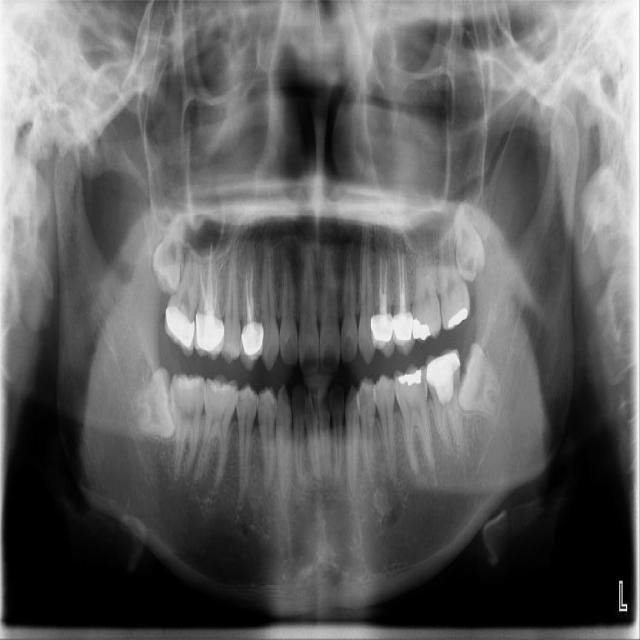3M ESPE Implant: (149, 211, 187, 296)
52: (417, 344, 471, 394), (388, 362, 432, 415), (164, 296, 196, 359), (237, 316, 268, 373), (409, 295, 444, 345), (193, 309, 225, 362), (440, 281, 472, 330), (369, 314, 397, 361), (390, 311, 418, 357)
73: (427, 365, 461, 453), (190, 241, 224, 325), (382, 228, 413, 318), (242, 242, 265, 331), (371, 249, 392, 317)
BioHorizons Implant: (435, 225, 472, 332)
BioLife Implant: (455, 204, 485, 282)
Biomet 3i Implant: (453, 341, 515, 419)
Blue Sky Bio Implant: (425, 347, 461, 453)
Caries: (160, 244, 207, 358)
Implant: (169, 370, 211, 477)
Keystone Dental Implant: (129, 365, 181, 442)
